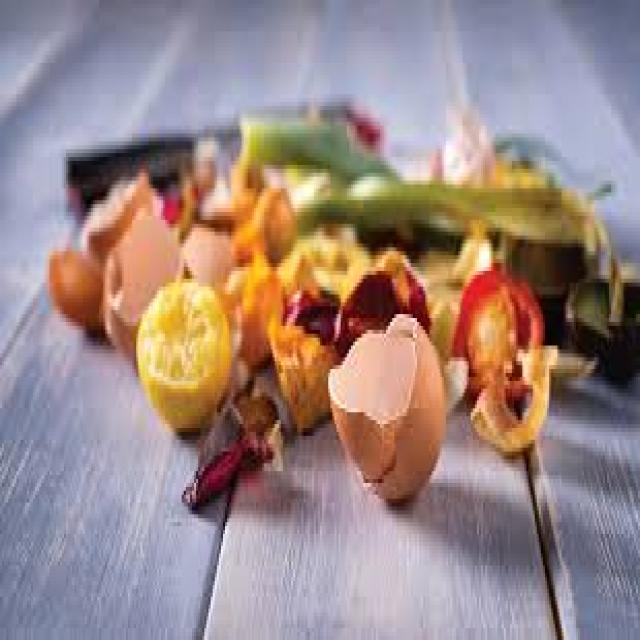food_waste: (310, 288, 465, 514), (125, 257, 236, 449)
